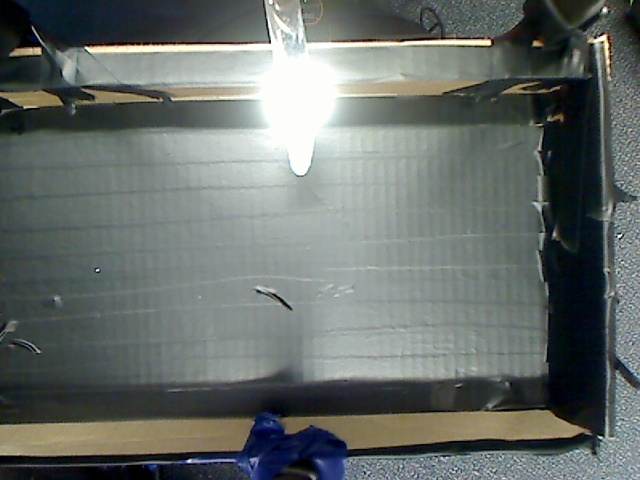knife: (244, 1, 351, 189)
